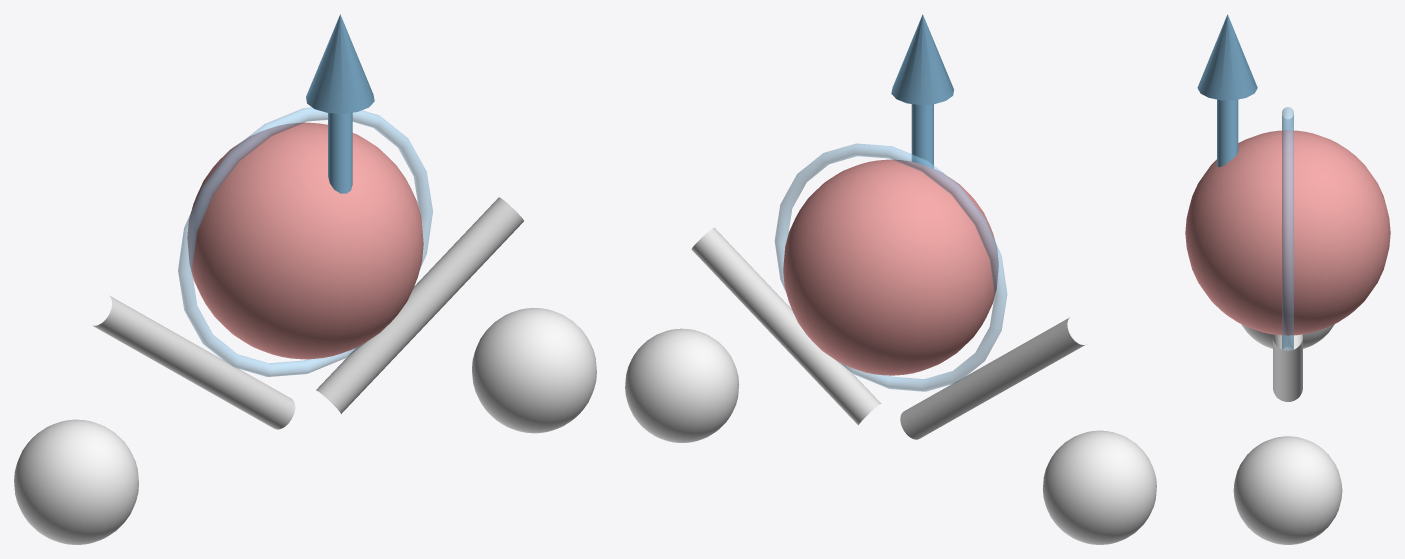
Rendered from water-molecule.glb.
The picture shows the model from 3 angles, left to right: view 1: azimuth 30°, elevation 25°; view 2: azimuth 150°, elevation 25°; view 3: azimuth 270°, elevation 25°; orthographic projection. The views are drawn at different scales.
Parts seen in each view (by area): view 1: oxygen_atom, hydrogen_2, hydrogen_1, bond_2, partial_charge_ring, bond_1, dipole_moment; view 2: oxygen_atom, hydrogen_1, hydrogen_2, partial_charge_ring, bond_2, bond_1, dipole_moment; view 3: oxygen_atom, hydrogen_2, dipole_moment, partial_charge_ring, bond_2, hydrogen_1, bond_1.
Boxes of the visible parts, x1,y1,x2,y2 form: oxygen_atom: [187, 122, 423, 359]; hydrogen_2: [472, 308, 596, 433]; hydrogen_1: [14, 419, 138, 544]; bond_2: [316, 197, 523, 413]; partial_charge_ring: [178, 107, 432, 376]; bond_1: [92, 295, 295, 429]; dipole_moment: [306, 14, 374, 193]; oxygen_atom: [783, 159, 998, 375]; hydrogen_1: [1042, 430, 1156, 544]; hydrogen_2: [625, 328, 739, 442]; partial_charge_ring: [774, 143, 1007, 391]; bond_2: [691, 227, 881, 425]; bond_1: [900, 317, 1086, 439]; dipole_moment: [891, 14, 953, 168]; oxygen_atom: [1185, 130, 1390, 335]; hydrogen_2: [1233, 436, 1342, 544]; dipole_moment: [1197, 14, 1257, 167]; partial_charge_ring: [1282, 107, 1293, 350]; bond_2: [1273, 339, 1302, 401]; hydrogen_1: [1241, 324, 1334, 348]; bond_1: [1273, 334, 1302, 350].
Size of the model in its own units: 1.48 by 1.23 by 0.5356.
